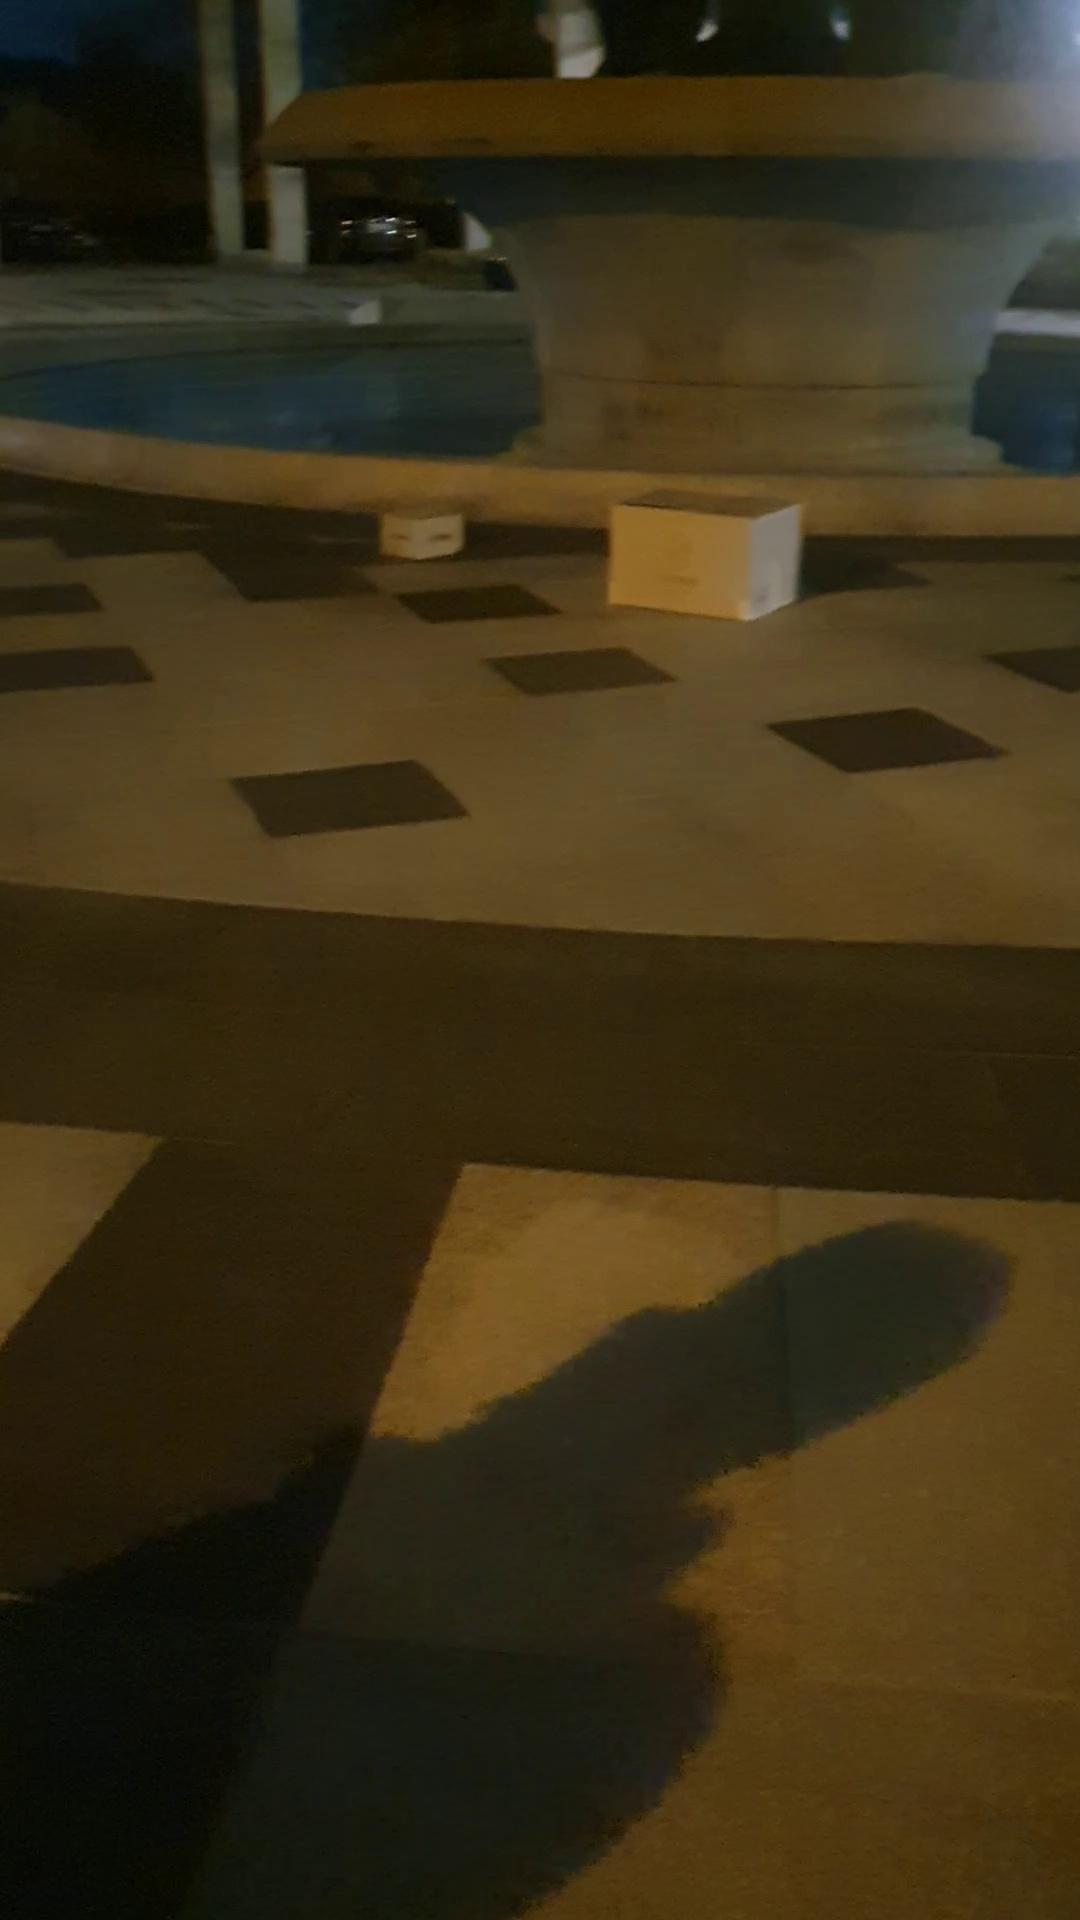Box: (601, 475, 812, 626), (367, 483, 480, 578)
